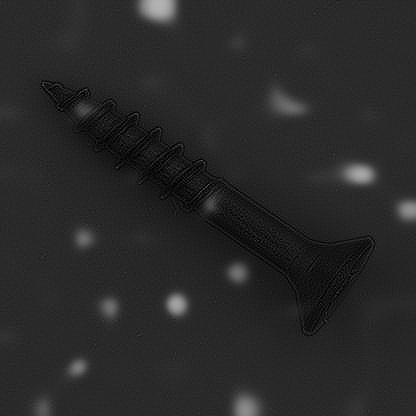metal: (39, 78, 376, 336)
